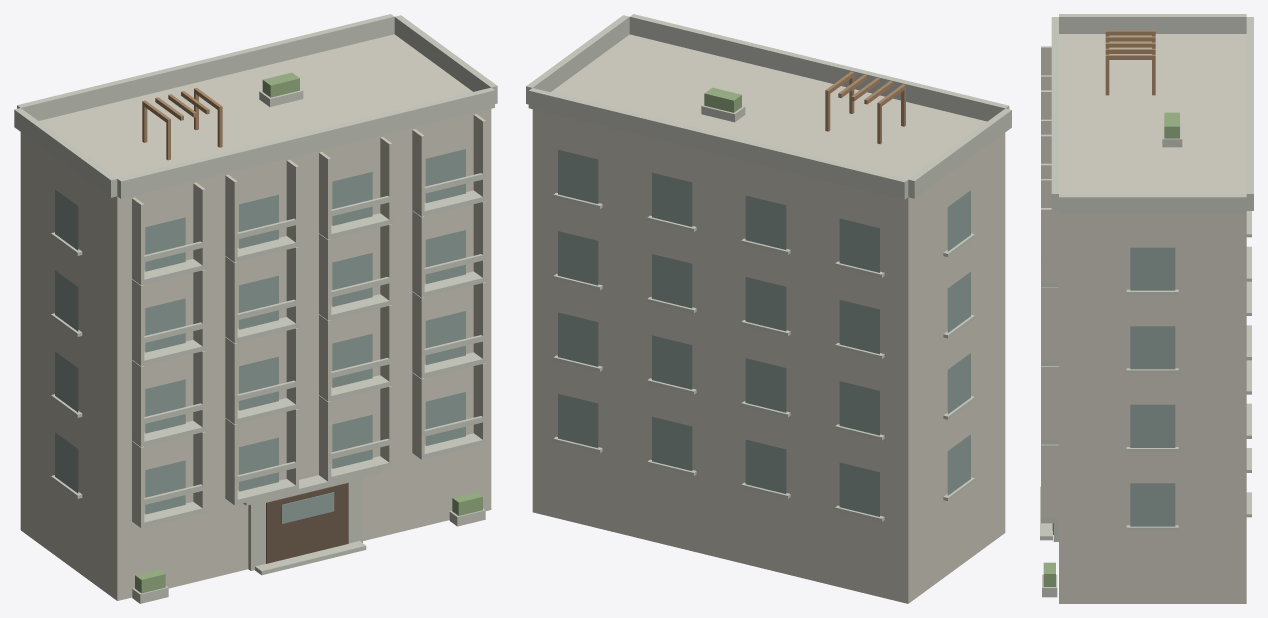
Rendered from residential_2x1_b.glb.
3 renders of one model, left to right at view 1: azimuth 30°, elevation 25°; view 2: azimuth 150°, elevation 25°; view 3: azimuth 270°, elevation 25°, orthographic. The views are drawn at different scales.
Visible parts, largest first — view 1: residential_2x1_b_0; view 2: residential_2x1_b_0; view 3: residential_2x1_b_0.
Part boxes in pixels (box(x1,y1,x2,y2)): residential_2x1_b_0: box(14, 14, 497, 603); residential_2x1_b_0: box(526, 14, 1011, 603); residential_2x1_b_0: box(1040, 14, 1253, 603).
Size of the model in its own units: 15 by 16.5 by 7.4.
